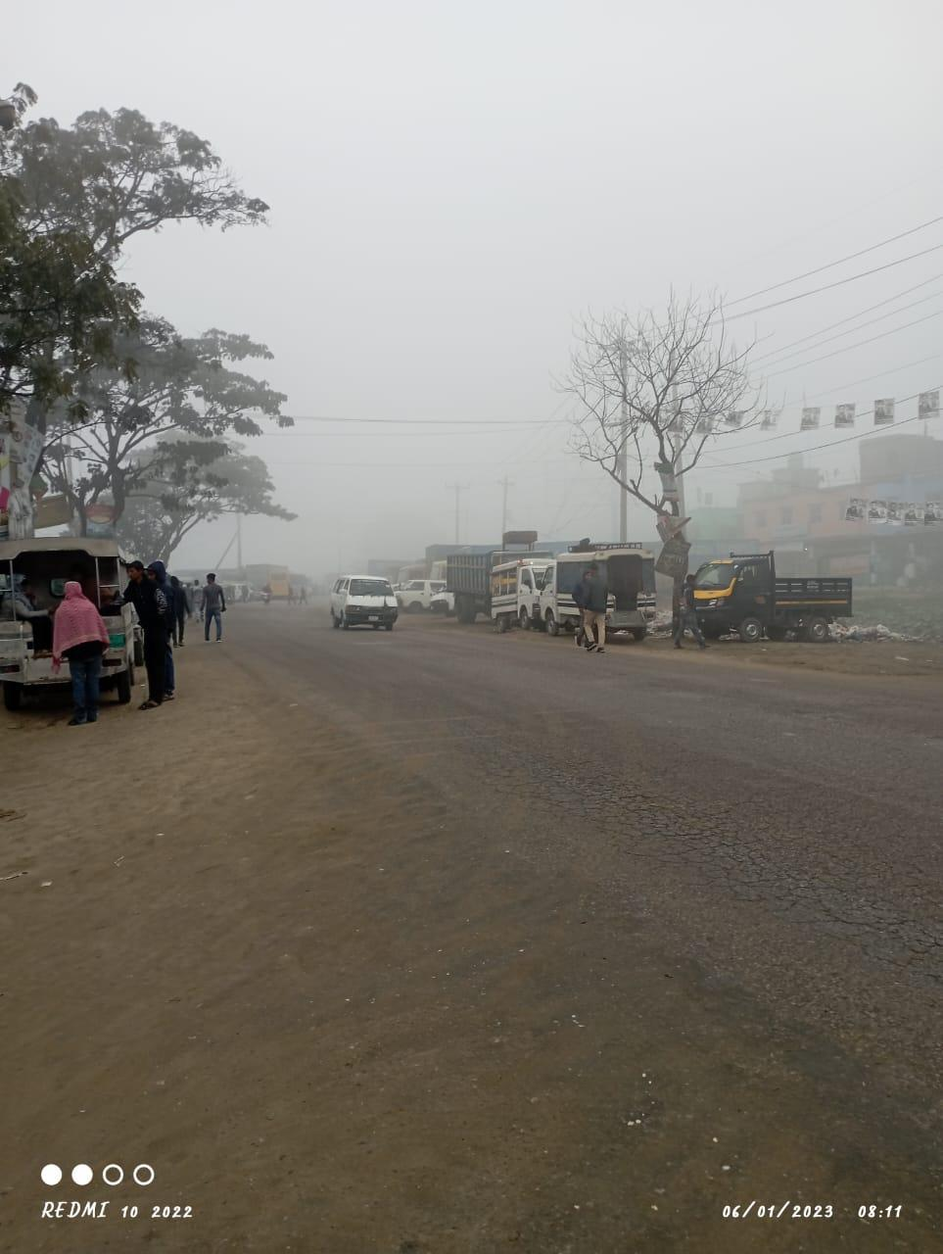Car: (2, 533, 156, 713), (540, 539, 660, 643), (327, 563, 403, 631), (493, 558, 544, 628)
Truck: (689, 549, 871, 653), (444, 543, 518, 600)
